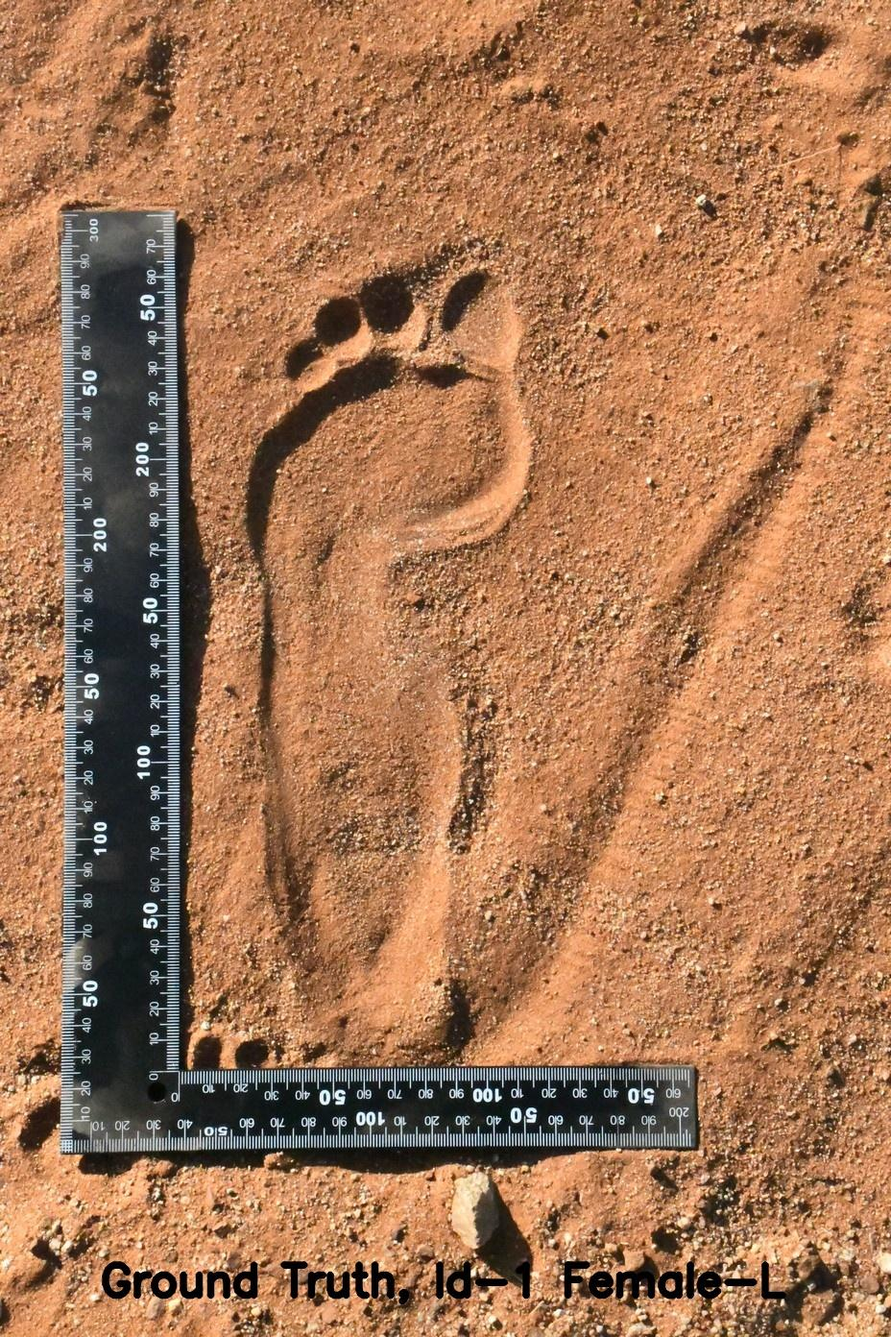human_footprint: (196, 221, 522, 1075)
